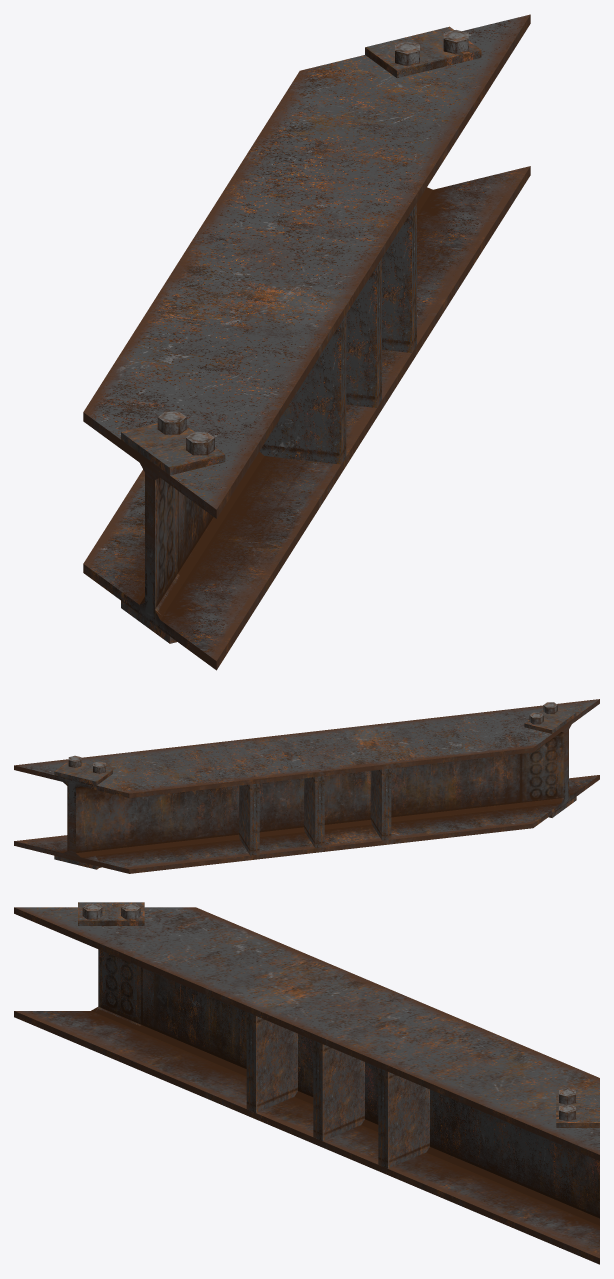
Rendered from Beam_02a_snaps005.fbx.
3 views of the same model, one above another, from view 1: azimuth 30°, elevation 25°; view 2: azimuth 150°, elevation 25°; view 3: azimuth 270°, elevation 25° (orthographic). The views are drawn at different scales.
Parts seen in each view (by area): view 1: Beam_02a_snaps005_LOD0; view 2: Beam_02a_snaps005_LOD0; view 3: Beam_02a_snaps005_LOD0.
Boxes of the visible parts, x1,y1,x2,y2 form: Beam_02a_snaps005_LOD0: (83, 14, 530, 670); Beam_02a_snaps005_LOD0: (14, 699, 599, 873); Beam_02a_snaps005_LOD0: (14, 902, 599, 1264).
Size of what is drawn, in the model's own units: 175 by 45.09 by 175.
